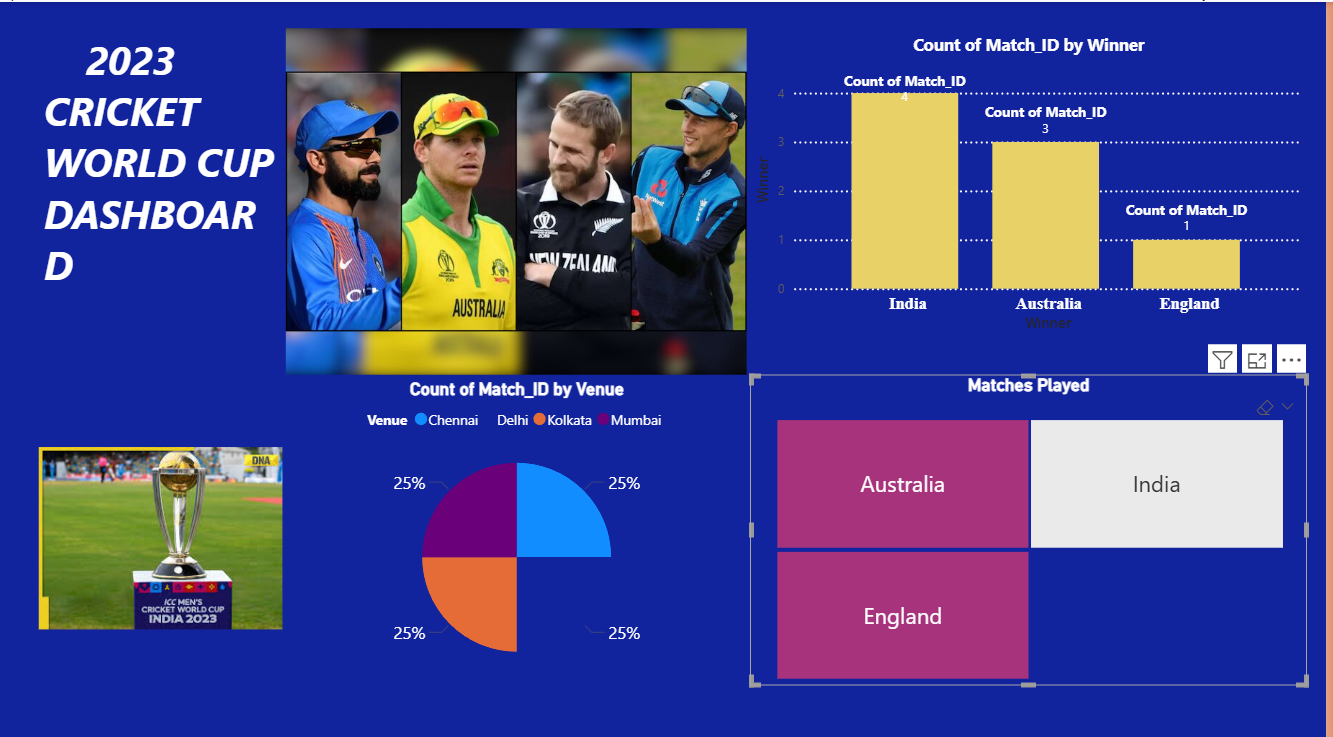

Layout of this report page (visuals, bound fields, positions):
{"tool":"powerbi","page":{"name":"Page 1","canvas":[1280,720],"ordinal":0},"visuals":[{"type":"clusteredColumnChart","fields":{"Category":["Sheet1.Winner"],"Y":["CountNonNull(Sheet1.Match_ID)"]},"box":[723.9,25.3,538.1,296.8],"z":0},{"type":"slicer","title":"Matches Played","fields":{"Values":["Sheet1.Winner"]},"box":[723.9,359.5,538.1,300.4],"z":1},{"type":"pieChart","fields":{"Category":["Sheet1.Venue"],"Y":["CountNonNull(Sheet1.Match_ID)"]},"box":[273.9,363.1,450,296.8],"z":2},{"type":"textbox","box":[37.4,25.3,236.5,296.8],"z":3},{"type":"image","box":[272.7,25.3,451.2,334.2],"z":4},{"type":"image","box":[37.4,363.1,235.3,308.8],"z":5}]}

Visuals, with their boxes in screenshot pixels (x1, y1, x2, y2), scaled from the page's 1280x720 canvas onto the 1333x737 screenshot:
clusteredColumnChart - Sheet1.Winner x CountNonNull(Sheet1.Match_ID): l=754, t=26, r=1314, b=330
"Matches Played" slicer: l=754, t=368, r=1314, b=675
pieChart - Sheet1.Venue x CountNonNull(Sheet1.Match_ID): l=285, t=372, r=754, b=675
textbox: l=39, t=26, r=285, b=330
image: l=284, t=26, r=754, b=368
image: l=39, t=372, r=284, b=688
